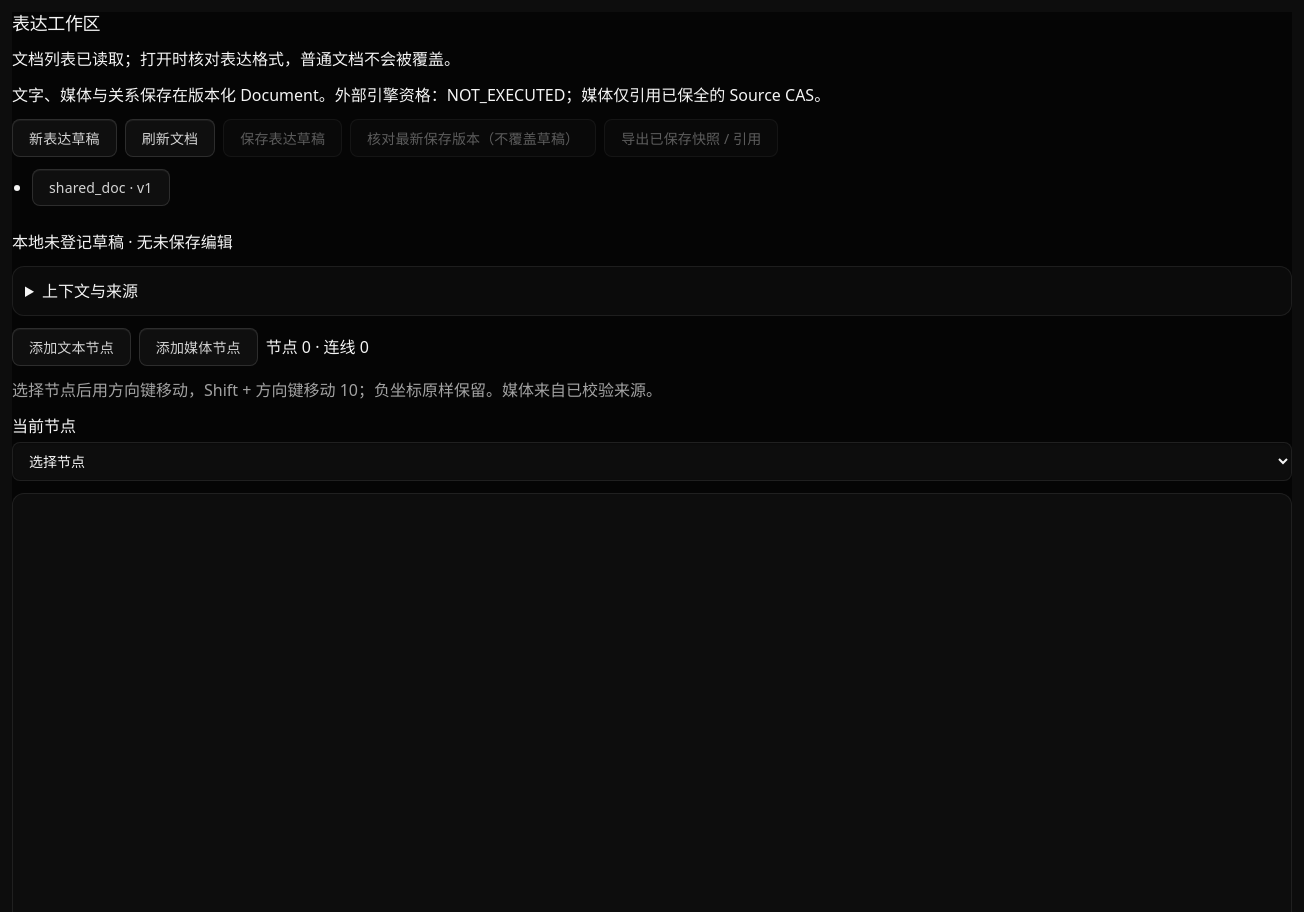
actual Canvas consumer refuses edits and writes while reader holds the shared object lease
Click the button "shared_doc · v1" at (101, 187), box [32,168,170,206]
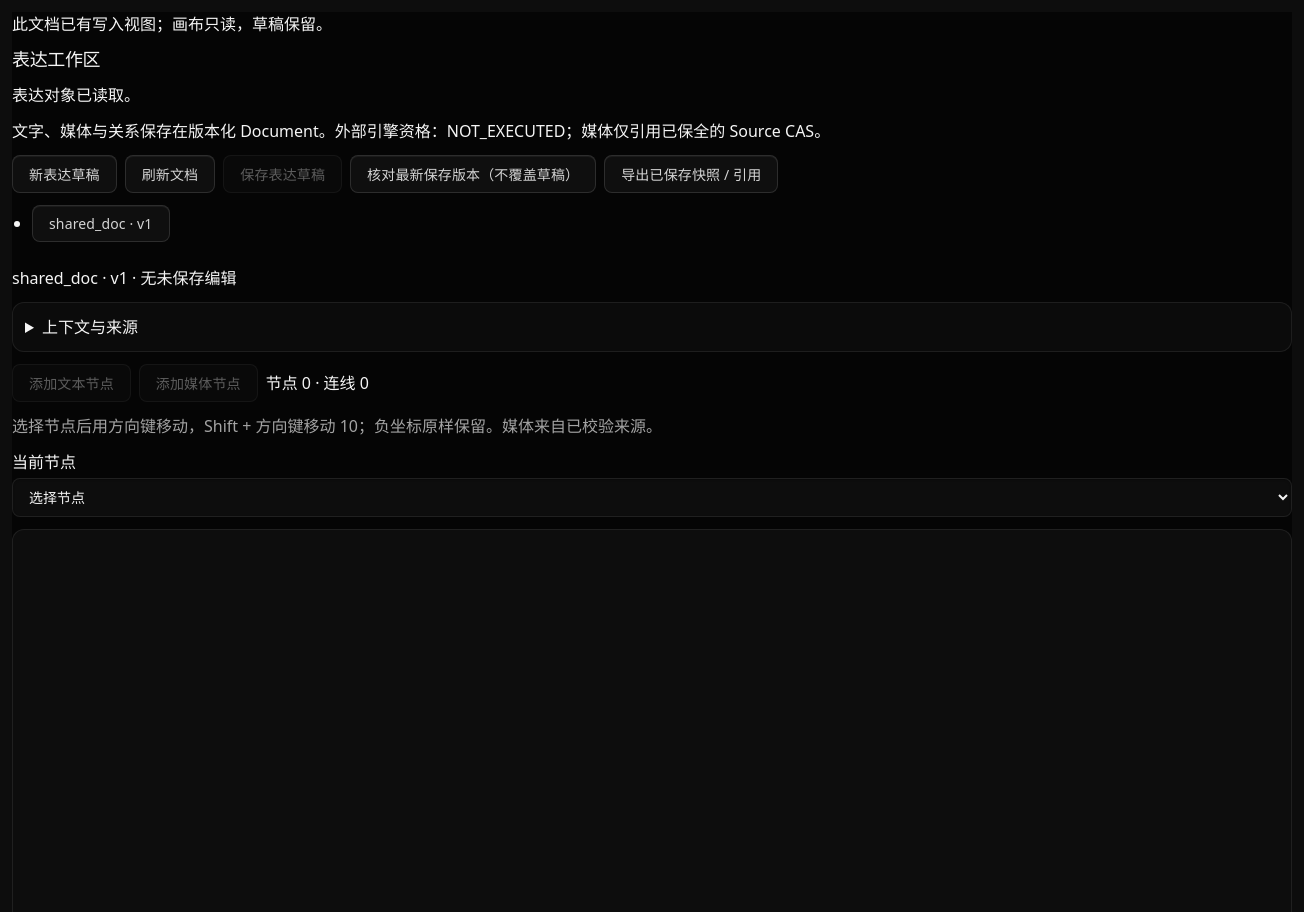
Expected: the button "保存表达草稿" is disabled, [223,154,342,192]
Result: the text "此文档已有写入视图；画布只读，草稿保留。" is shown at [12,13,332,35]
